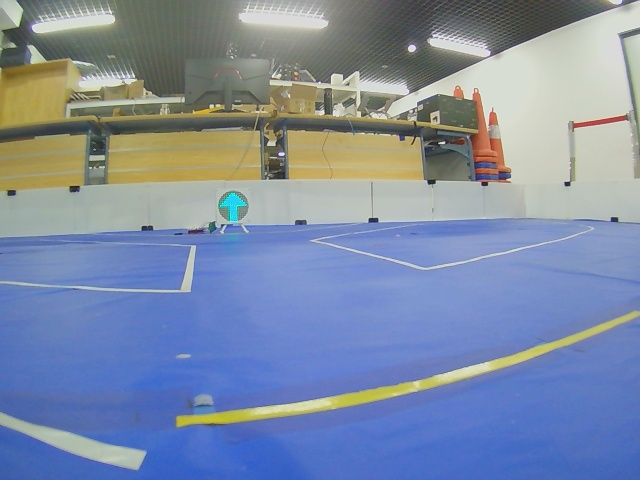straight_green: (218, 190, 249, 223)
